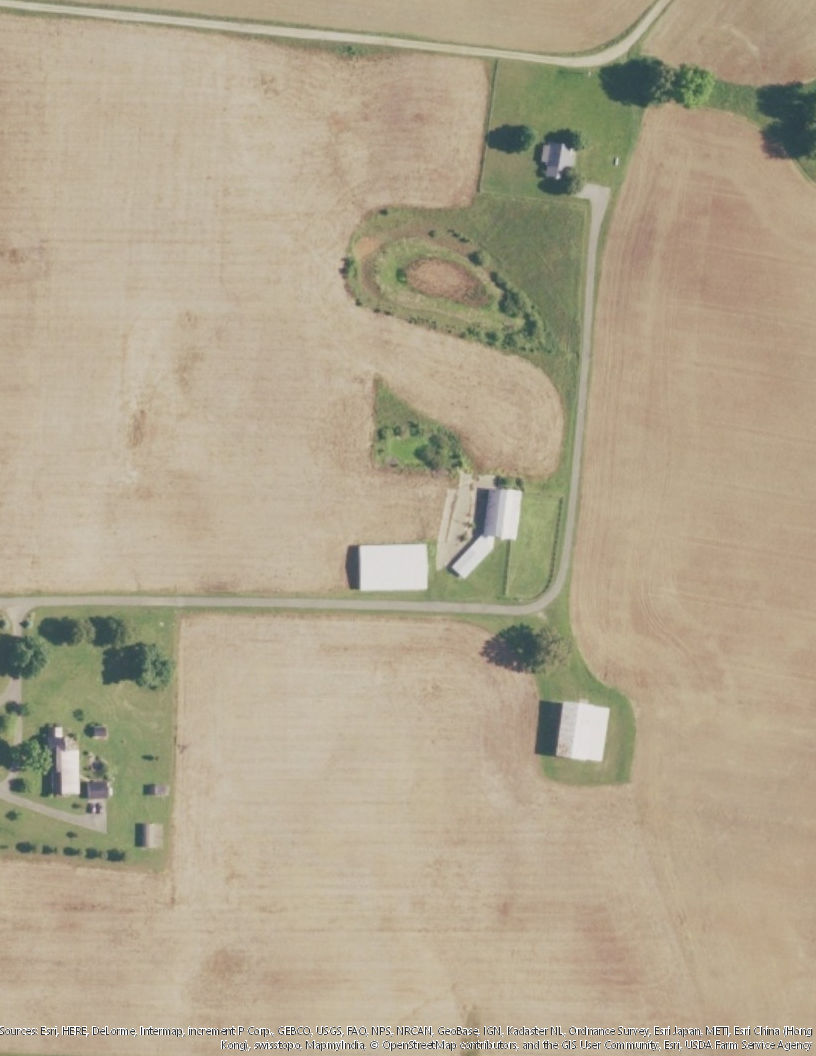cafo: (443, 476, 524, 581), (343, 540, 433, 593), (551, 693, 617, 764)
